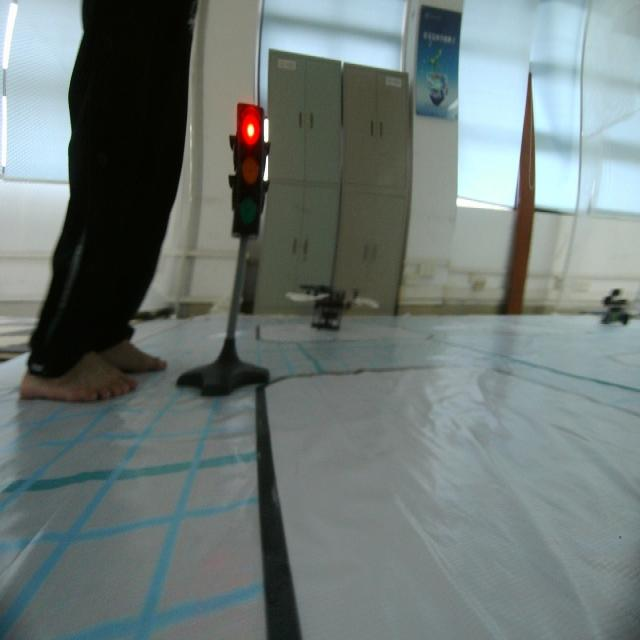red: (227, 95, 267, 238)
